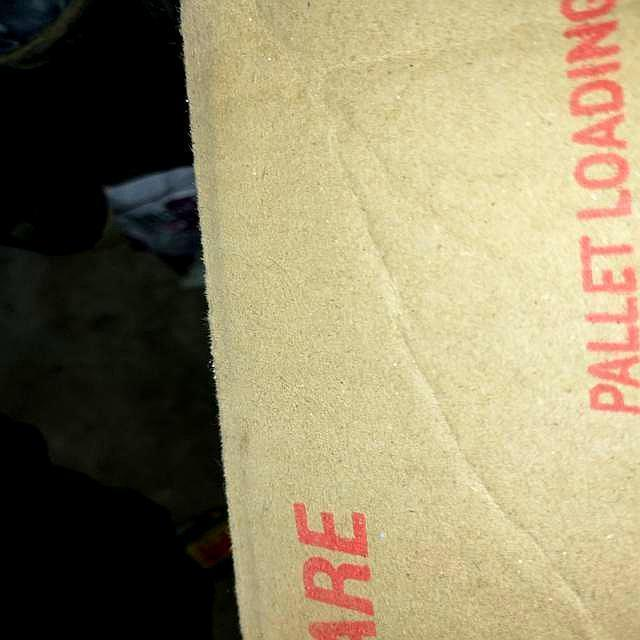Biodegradable: (176, 1, 640, 640)
